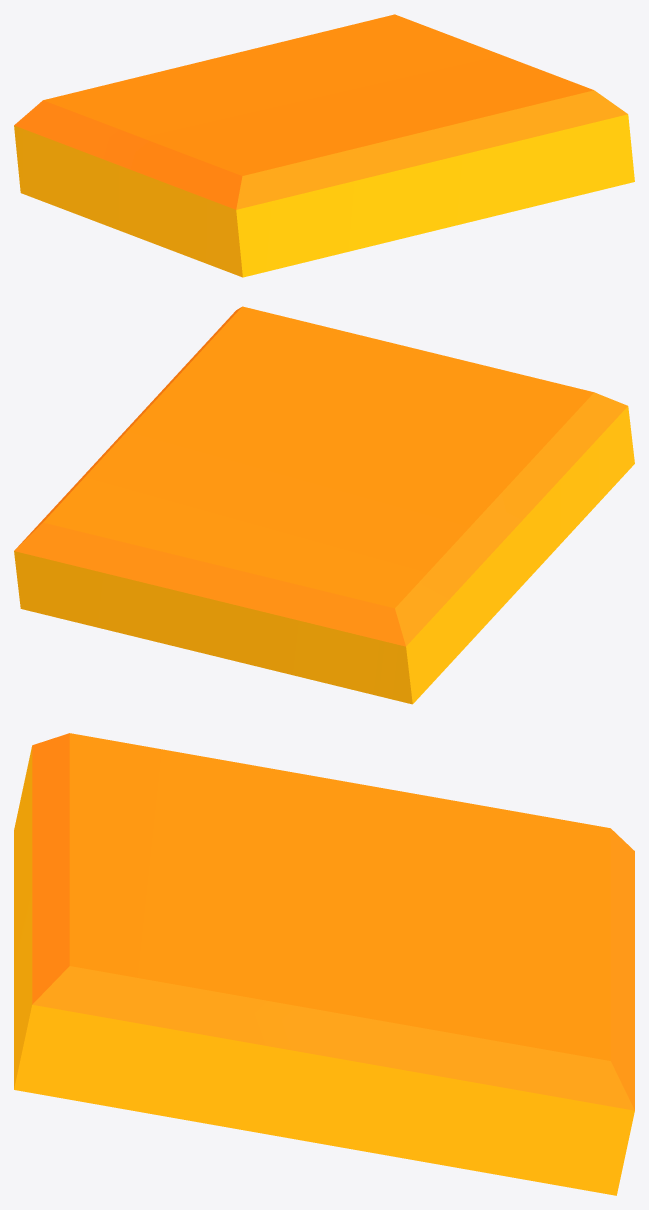
The model's file is ButtonH.glb.
3 renders of one model, top to bottom at view 1: azimuth 30°, elevation 25°; view 2: azimuth 150°, elevation 25°; view 3: azimuth 270°, elevation 25°, orthographic. The views are drawn at different scales.
Visible parts, largest first — view 1: ButtonH; view 2: ButtonH; view 3: ButtonH.
Boxes of the visible parts, x1=… form: ButtonH: x1=14, y1=14, x2=634, y2=277; ButtonH: x1=14, y1=306, x2=634, y2=704; ButtonH: x1=14, y1=733, x2=634, y2=1195.
Bounding box in the file's own units: 0.5336 × 0.2077 × 0.5397.
1 material, 1 textured.
